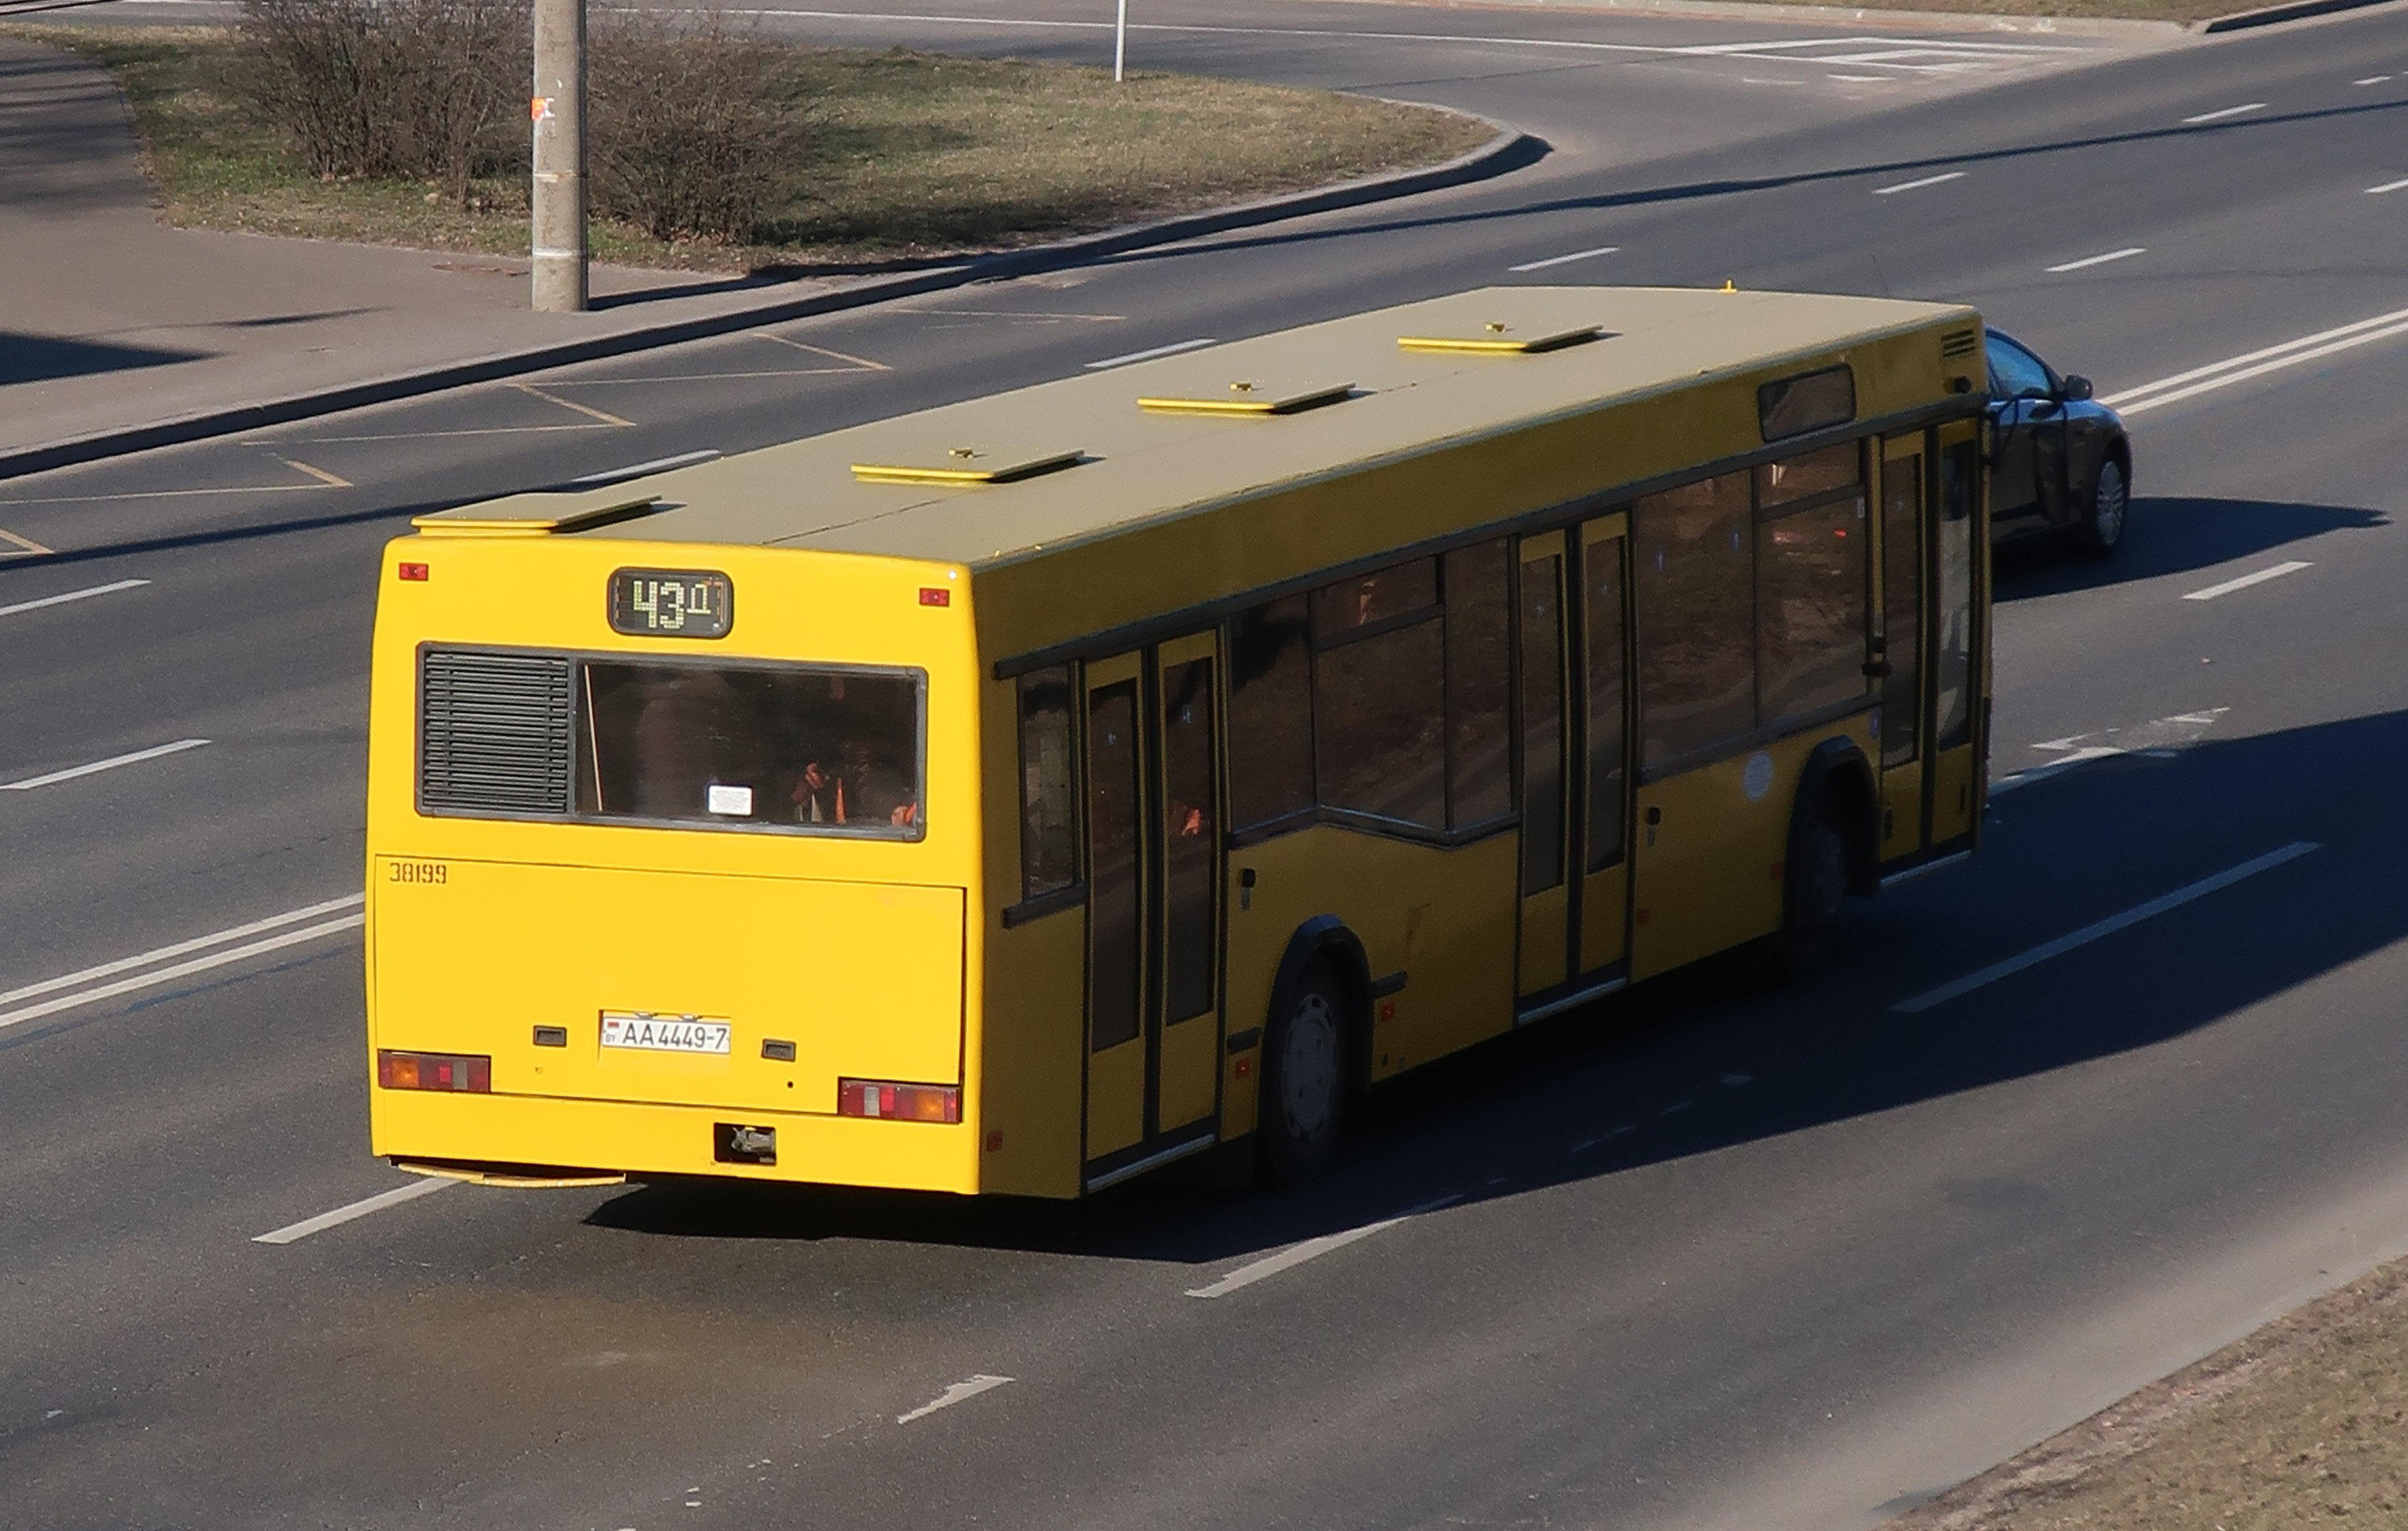bus: (353, 279, 1999, 1214)
